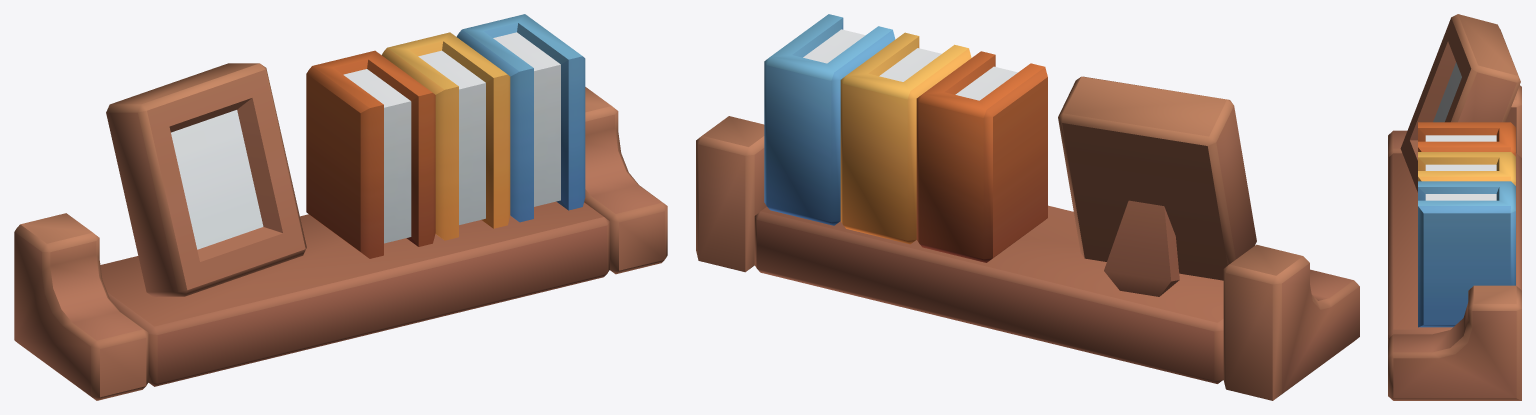
File: kay-prateleira-enfeitada.gltf
3 renders of one model, left to right at view 1: azimuth 30°, elevation 25°; view 2: azimuth 150°, elevation 25°; view 3: azimuth 270°, elevation 25°, orthographic. The views are drawn at different scales.
Visible parts, largest first — view 1: shelf_B_large_decorated; view 2: shelf_B_large_decorated; view 3: shelf_B_large_decorated.
Boxes of the visible parts, x1=… form: shelf_B_large_decorated: x1=14, y1=14, x2=667, y2=400; shelf_B_large_decorated: x1=696, y1=14, x2=1359, y2=400; shelf_B_large_decorated: x1=1388, y1=14, x2=1521, y2=400.
Size of the model in its own units: 1.3 by 0.5314 by 0.325.
Materials: 1 (1 with a texture image).
